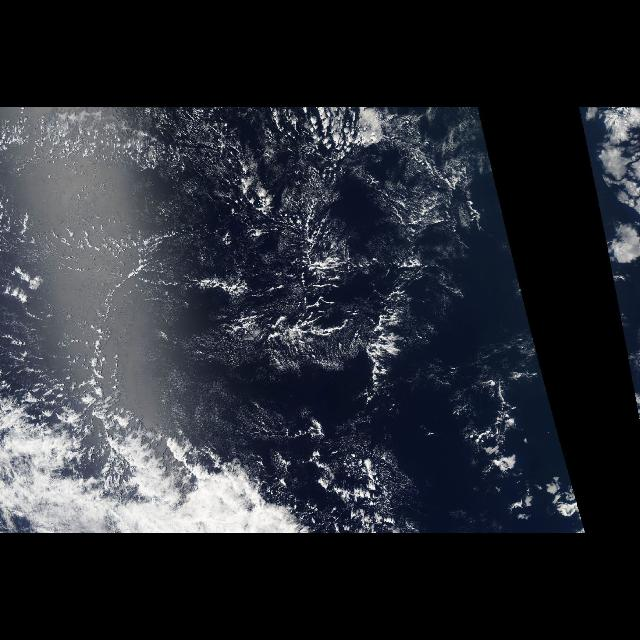Fish: (374, 168, 484, 398)
Sugar: (2, 109, 366, 378)
